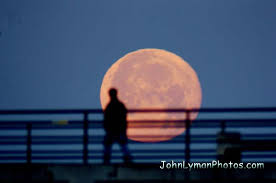moon: (99, 49, 203, 145)
